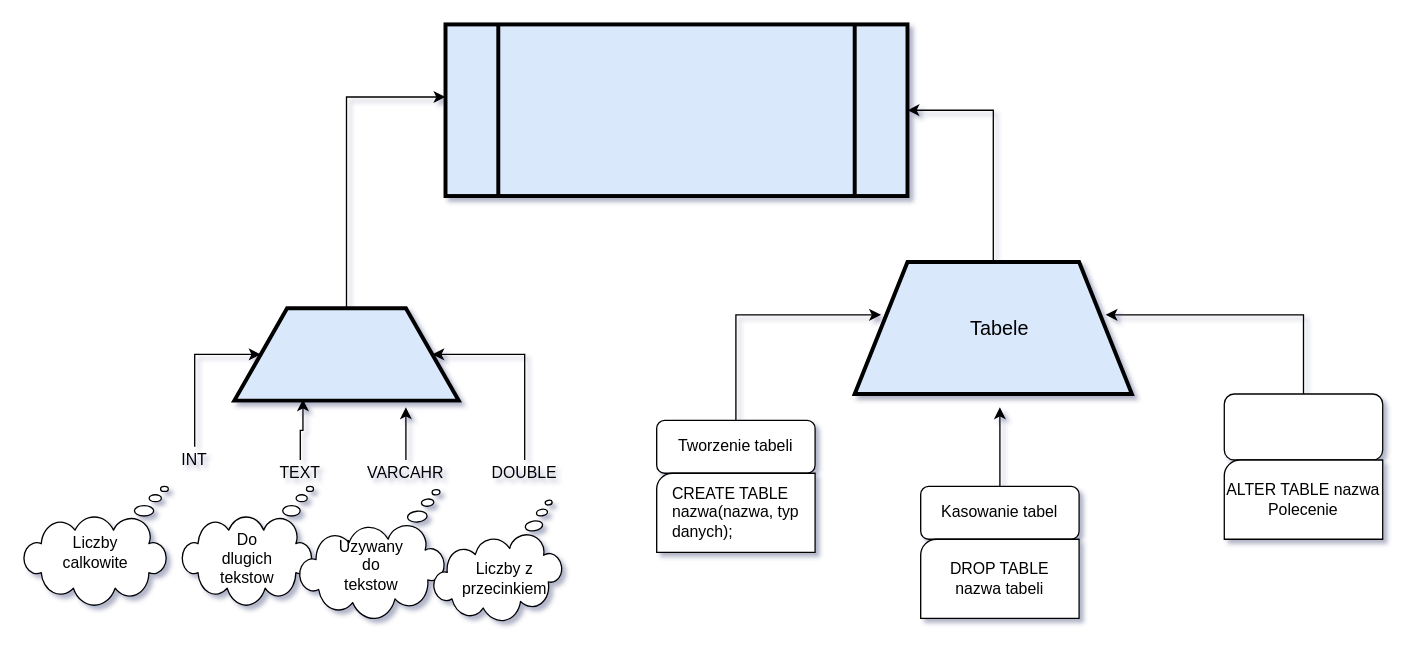
The diagram is 1414 pixels wide and 664 high, and some of its shapes have lost their labels. The centre of each missing label's shape, as x and y in pixels:
Bazy Danych: the point at 676,109
Modyfikowanie tabeli: the point at 1303,426
Typy danych: the point at 346,354
